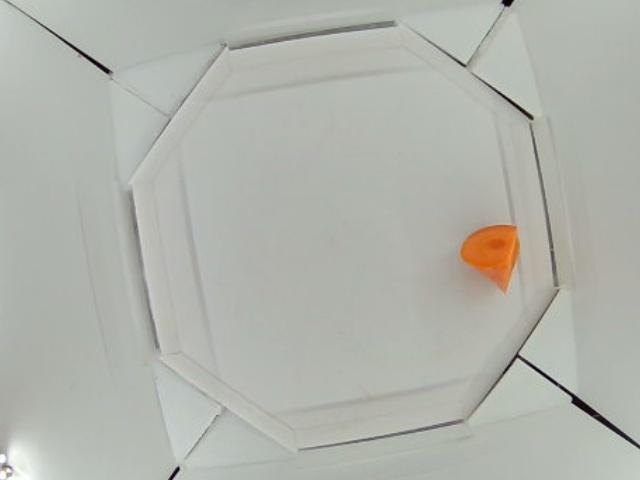Carrot: (461, 224, 520, 293)
